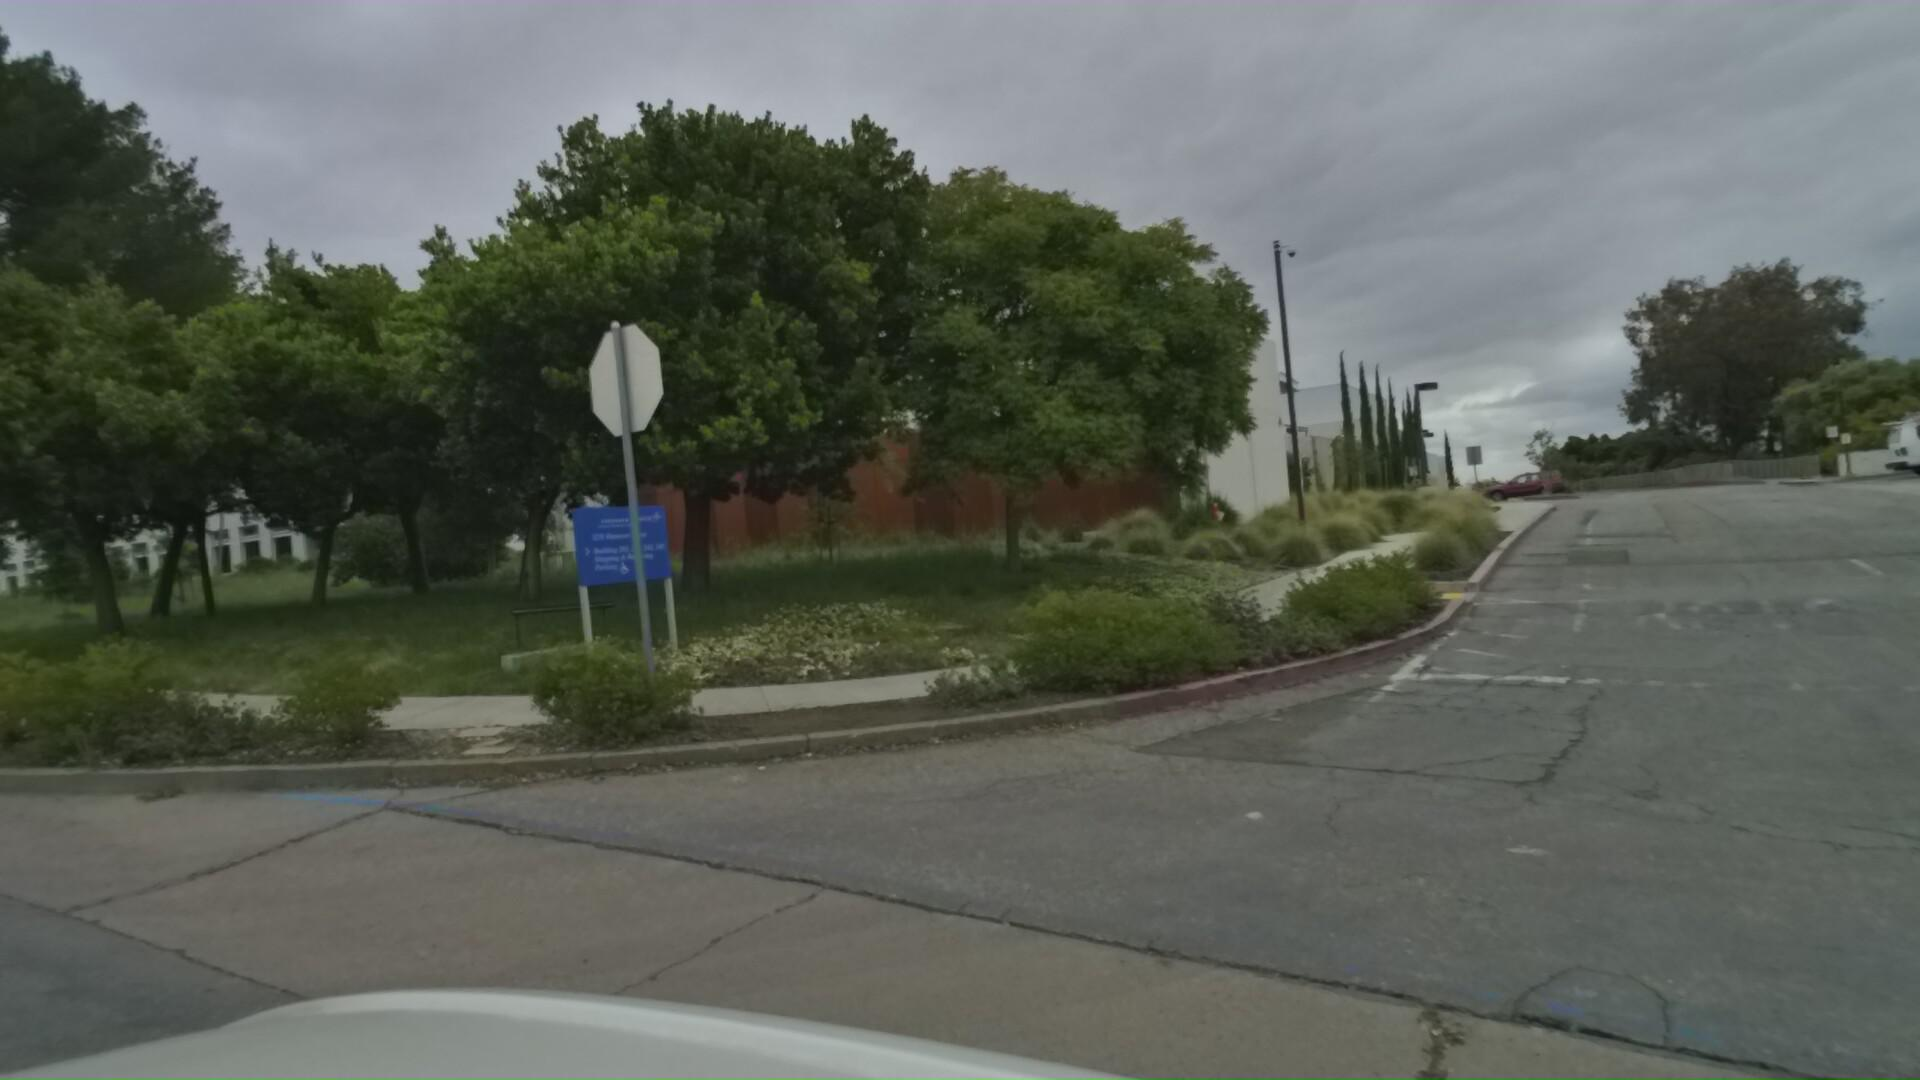car: (1480, 459, 1575, 498), (1882, 377, 1920, 465)
